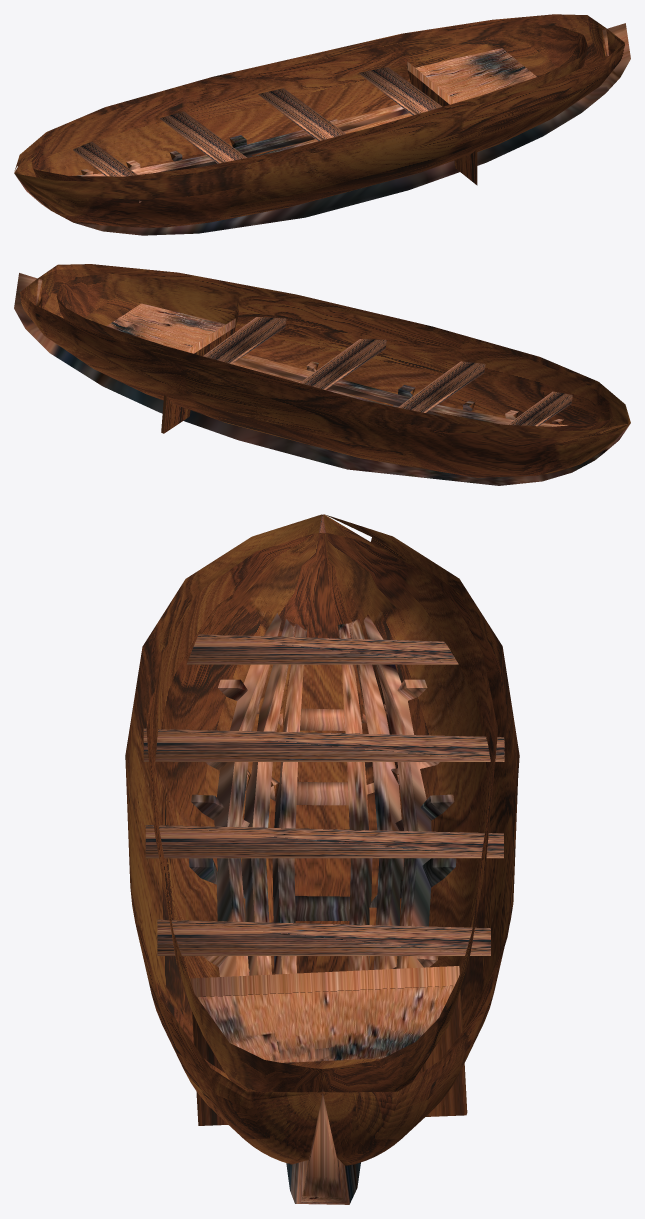
The model's file is ShipRow.obj.
3 views of the same model, one above another, from view 1: azimuth 30°, elevation 25°; view 2: azimuth 150°, elevation 25°; view 3: azimuth 270°, elevation 25° (orthographic). The views are drawn at different scales.
Parts seen in each view (by area): view 1: Cuerpo_Untitled.003, Tablones_Untitled; view 2: Cuerpo_Untitled.003, Tablones_Untitled; view 3: Cuerpo_Untitled.003, Tablones_Untitled.
Boxes of the visible parts, left/top/right/bottom form: Cuerpo_Untitled.003: left=14, top=14, right=630, bottom=235; Tablones_Untitled: left=73, top=67, right=442, bottom=202; Cuerpo_Untitled.003: left=14, top=264, right=630, bottom=485; Tablones_Untitled: left=203, top=317, right=572, bottom=426; Cuerpo_Untitled.003: left=125, top=514, right=519, bottom=1204; Tablones_Untitled: left=143, top=634, right=504, bottom=955.
Bounding box in the file's own units: 718 × 119 × 200.
3 materials, 3 textured.
